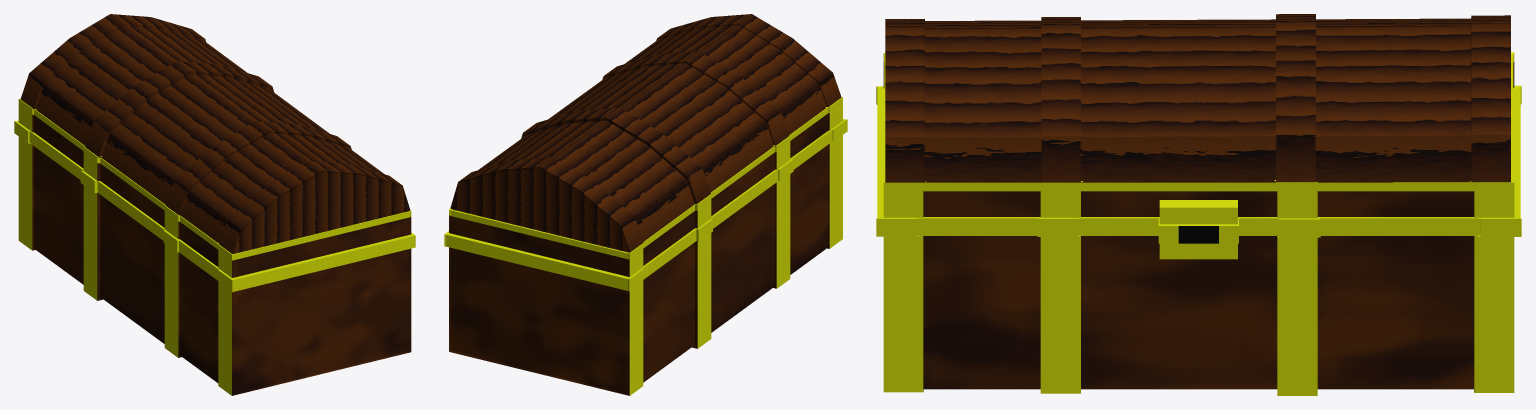
The model's file is Treasure Chest 0.1.fbx.
3 views of the same model, side by side, from view 1: azimuth 30°, elevation 25°; view 2: azimuth 150°, elevation 25°; view 3: azimuth 270°, elevation 25° (orthographic). The views are drawn at different scales.
Parts seen in each view (by area): view 1: ChestBody, Cube; view 2: ChestBody, Cube; view 3: ChestBody, Cube.
Boxes of the visible parts, x1,y1,x2,y2 form: ChestBody: (14, 99, 415, 395); Cube: (20, 14, 410, 253); ChestBody: (444, 97, 847, 395); Cube: (450, 14, 841, 252); ChestBody: (876, 52, 1521, 395); Cube: (885, 14, 1510, 182).
Bounding box in the file's own units: 105 × 108 × 205.
Materials: 4 (2 with a texture image).
